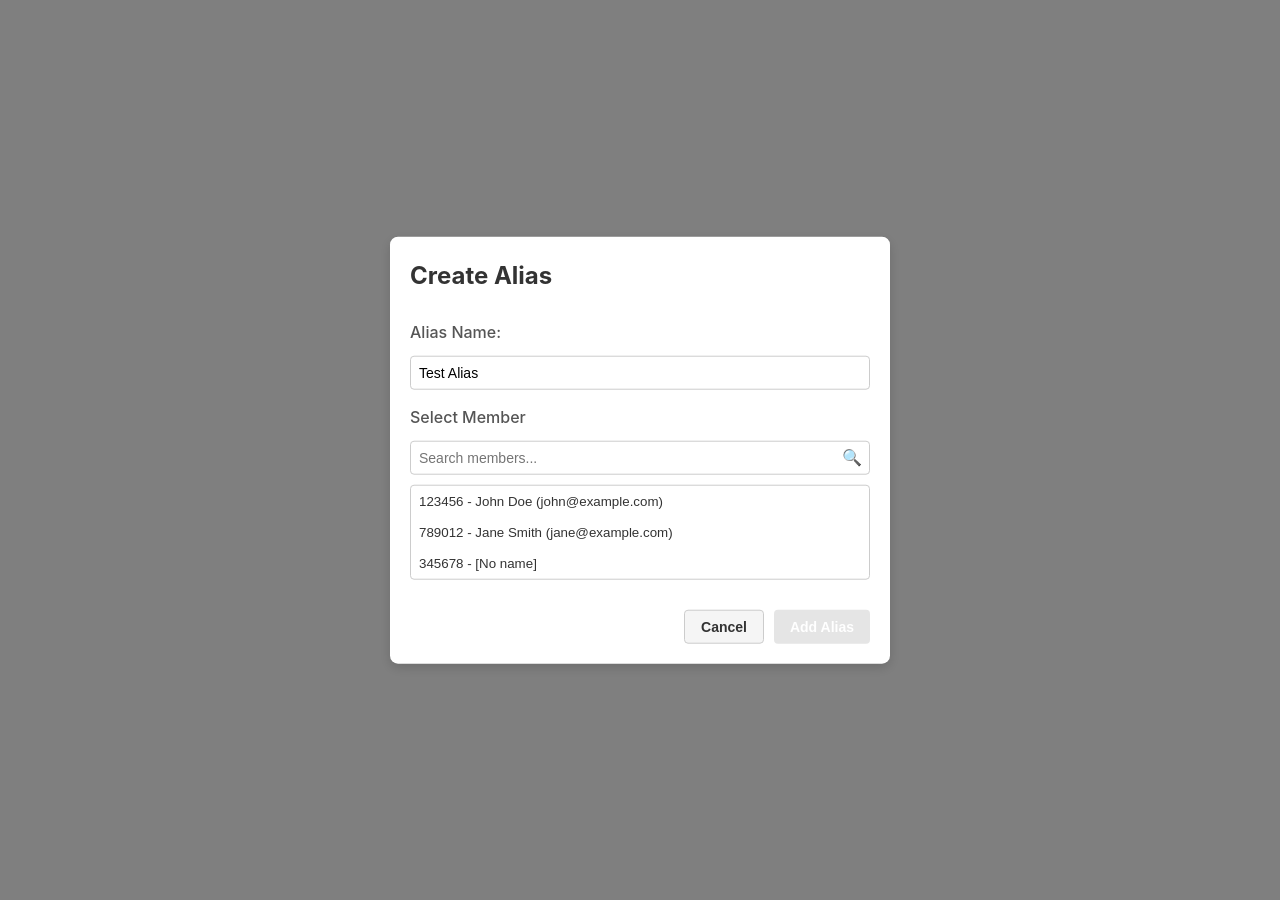
Test: AliasModal › handles search by email
The image size is (1280, 900).
In the field with placeholder "Search members...": [640, 457] box [410,440,870,474], type "jane@example"
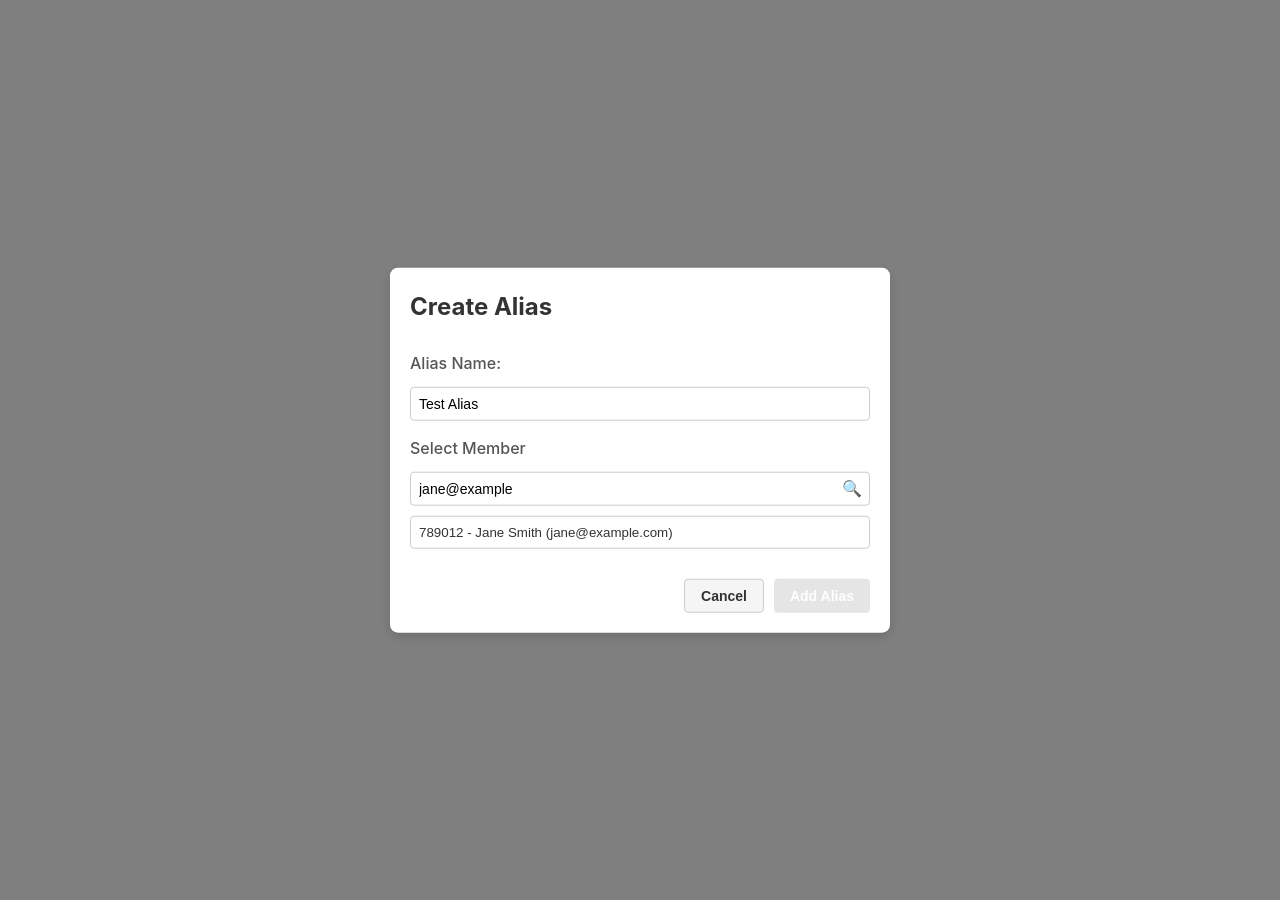
Expected: the button "789012 - Jane Smith (jane@example.com)" is shown, [411,516,869,547]
Expected: the button "123456 - John Doe (john@example.com)" is gone
